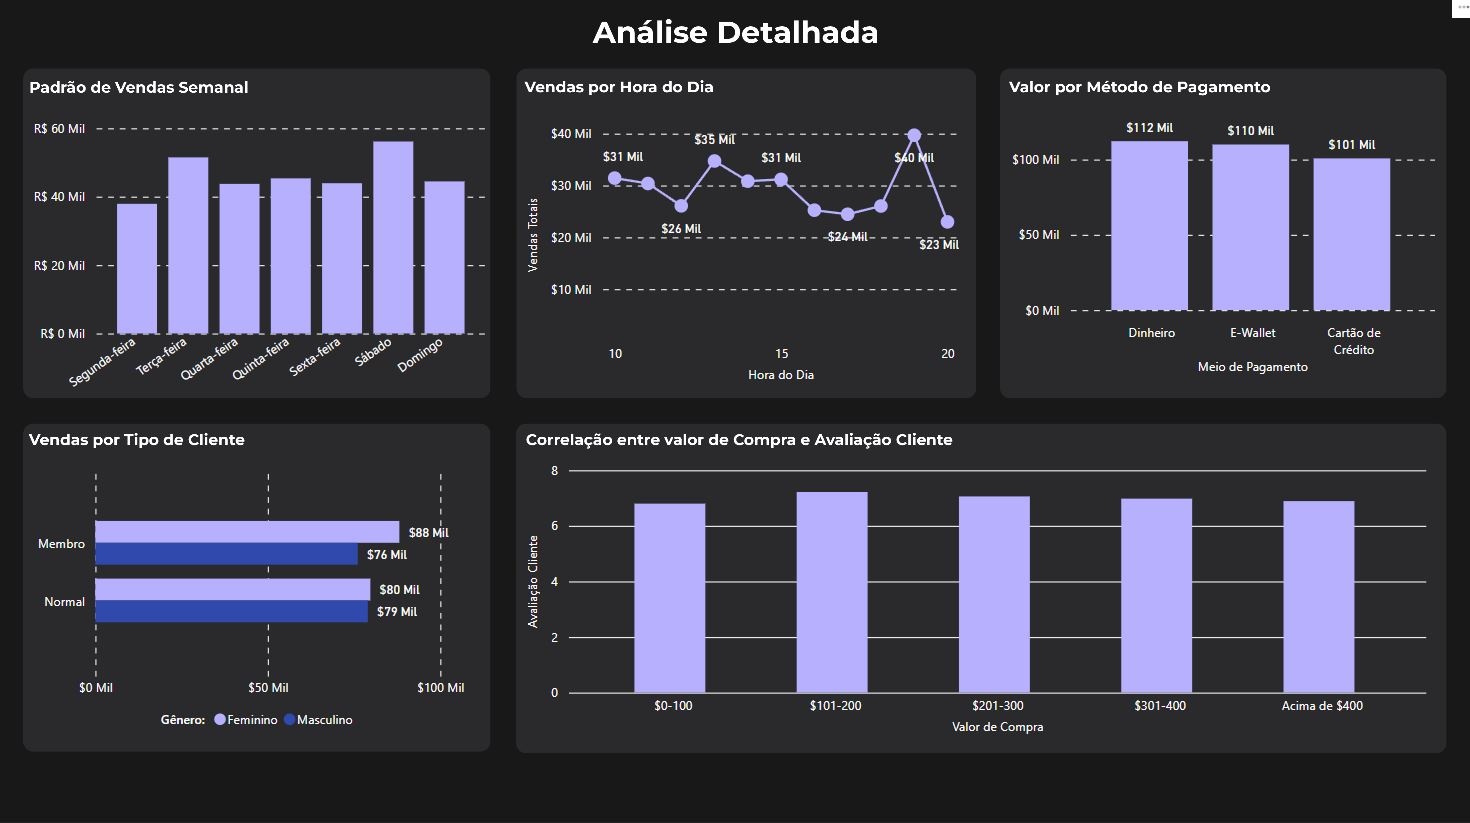

The page's visual inventory and layout, read from the dashboard file:
{"tool":"powerbi","page":{"name":"Página 2: Análise Detalhada","canvas":[1280,720],"ordinal":1},"visuals":[{"type":"image","box":[0,0,1280.2,719.8],"z":0},{"type":"lineChart","title":"Vendas por Hora do Dia","fields":{"Category":["dataset-IAN-Store.Hora do Dia"],"Y":["Sum(dataset-IAN-Store.Total)"]},"box":[456.2,102.1,382.3,238.5],"z":1000},{"type":"clusteredBarChart","title":"Vendas por Tipo de Cliente","fields":{"Category":["dataset-IAN-Store.Customer type"],"Series":["dataset-IAN-Store.Gender"],"Y":["dataset-IAN-Store.Total de Vendas"]},"box":[29.2,396.9,401,246.9],"z":2000},{"type":"clusteredColumnChart","title":"Vendas por Método de Pagamento","fields":{"Category":["dataset-IAN-Store.Payment"],"Y":["Sum(dataset-IAN-Store.Total)"]},"box":[874,93.8,375,239.6],"z":3000},{"type":"columnChart","fields":{"Y":["Sum(dataset-IAN-Store.Total)","dataset-IAN-Store.Ordem Dia"],"Category":["dataset-IAN-Store.Dia da Semana Nome"]},"box":[29.2,102.1,401,251],"z":4000},{"type":"clusteredColumnChart","fields":{"Category":["dataset-IAN-Store.Valor Faixa"],"Y":["dataset-IAN-Store.Avaliação Média"]},"box":[456.2,396.9,785.4,246.9],"z":5000}]}

Visuals, with their boxes in screenshot pixels (x1, y1, x2, y2), scaled from the page's 1280x720 canvas onto the 1470x823 screenshot:
image: pyautogui.locateOnScreen(0, 0, 1469, 822)
"Vendas por Hora do Dia" lineChart: pyautogui.locateOnScreen(524, 117, 963, 389)
"Vendas por Tipo de Cliente" clusteredBarChart: pyautogui.locateOnScreen(34, 454, 494, 736)
"Vendas por Método de Pagamento" clusteredColumnChart: pyautogui.locateOnScreen(1004, 107, 1434, 381)
columnChart - Sum(dataset-IAN-Store.Total) x dataset-IAN-Store.Ordem Dia: pyautogui.locateOnScreen(34, 117, 494, 404)
clusteredColumnChart - dataset-IAN-Store.Valor Faixa x dataset-IAN-Store.Avaliação Média: pyautogui.locateOnScreen(524, 454, 1426, 736)
